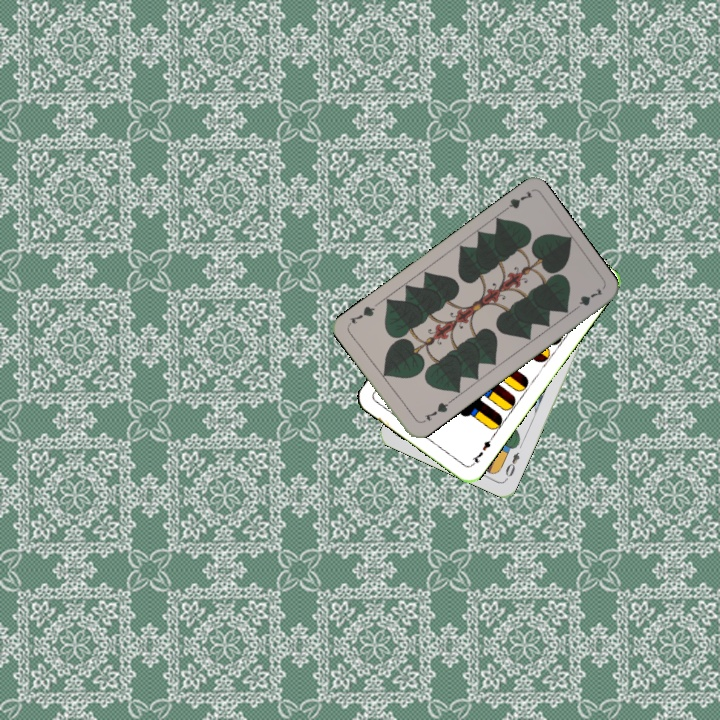E7: (467, 433, 496, 468)
EO: (501, 448, 522, 479)
G7: (497, 187, 535, 216), (417, 397, 453, 426)
